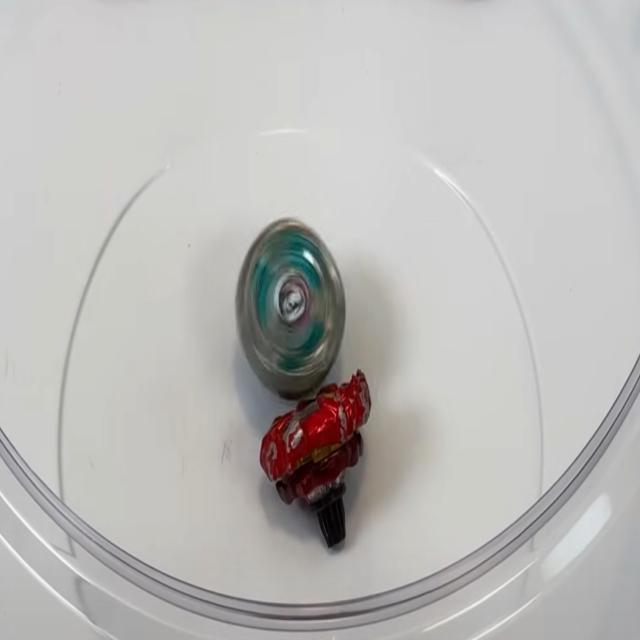Beyblade: (236, 215, 346, 397), (258, 369, 370, 547)
